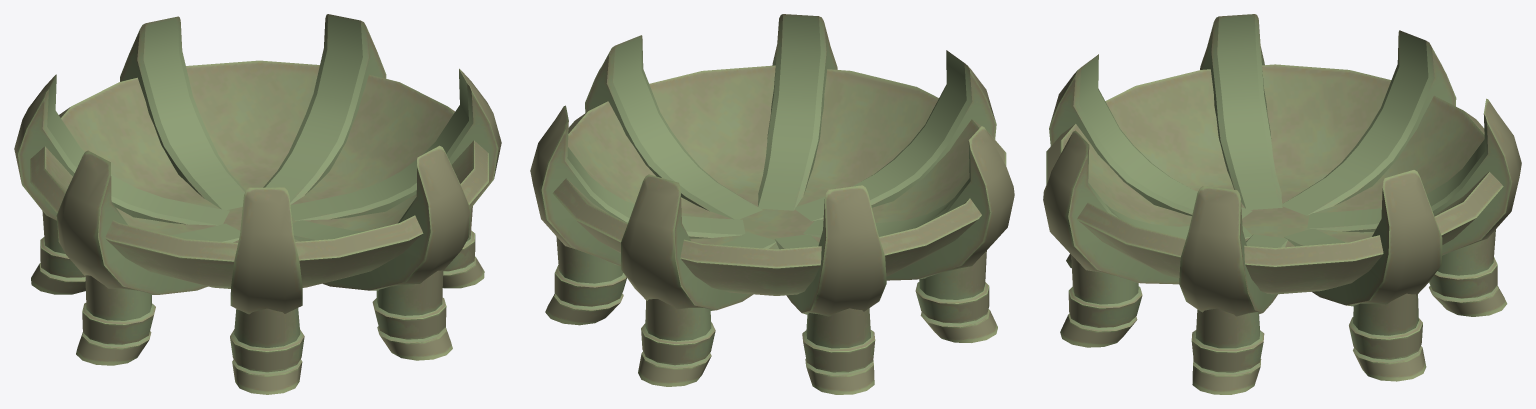
File: FireLamp_Bottom.fbx
3 renders of one model, left to right at view 1: azimuth 30°, elevation 25°; view 2: azimuth 150°, elevation 25°; view 3: azimuth 270°, elevation 25°, orthographic.
Visible parts, largest first — view 1: Lower (1); view 2: Lower (1); view 3: Lower (1).
Boxes of the visible parts, left/top/right/bottom form: Lower (1): left=14, top=14, right=501, bottom=394; Lower (1): left=530, top=14, right=1014, bottom=394; Lower (1): left=1043, top=14, right=1521, bottom=394.
Bounding box in the file's own units: 355 × 161 × 349.
1 material, 1 textured.
